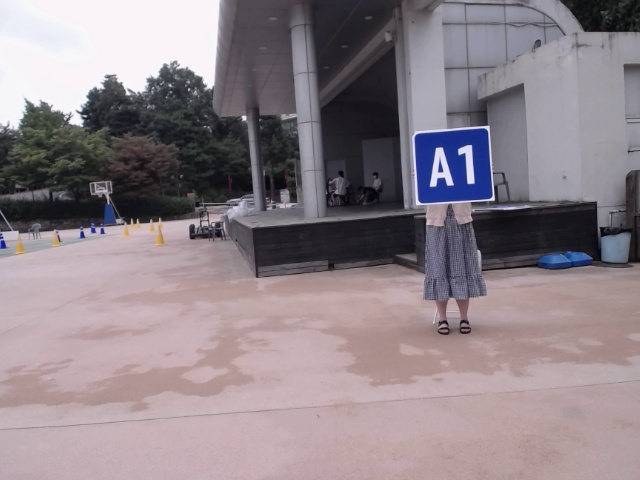delivery_a1: (413, 127, 494, 205)
